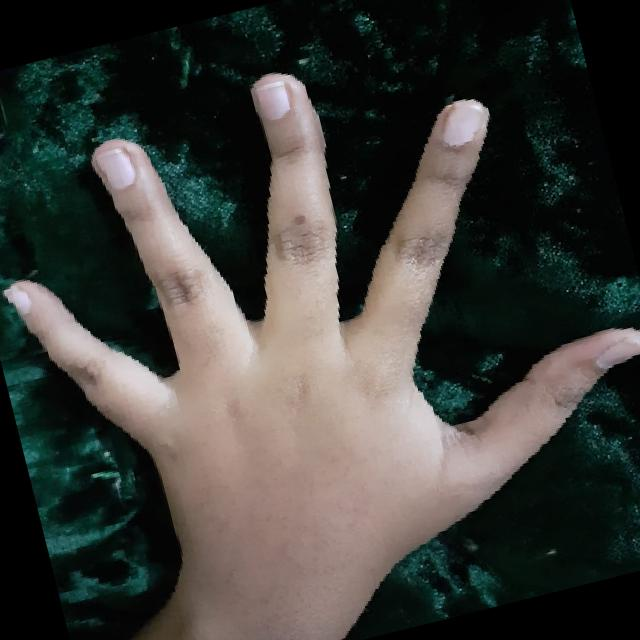Nail: (442, 100, 487, 146), (95, 147, 136, 189), (595, 336, 640, 372), (255, 80, 290, 120), (3, 284, 31, 314)
